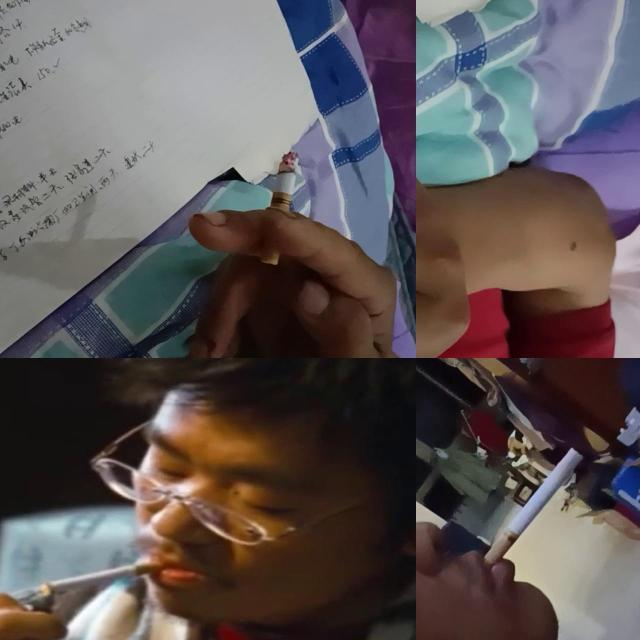smoking: (482, 446, 586, 567), (33, 562, 169, 596), (260, 152, 300, 266)
